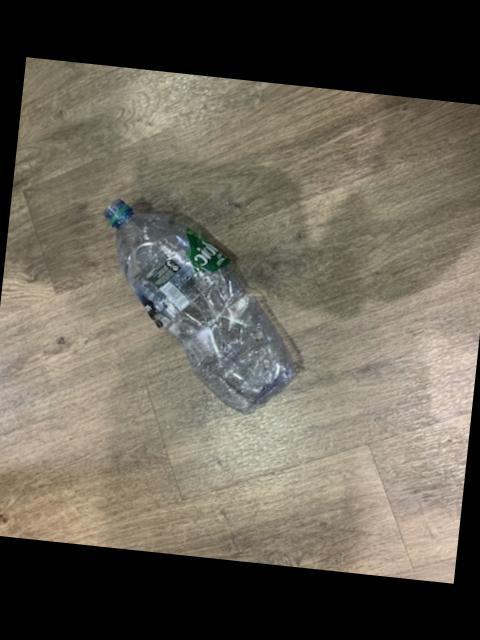plastic: (103, 197, 293, 410)
